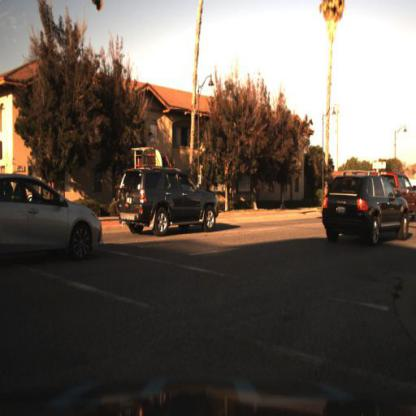car: (2, 168, 103, 261), (119, 166, 222, 237), (322, 168, 410, 248)
